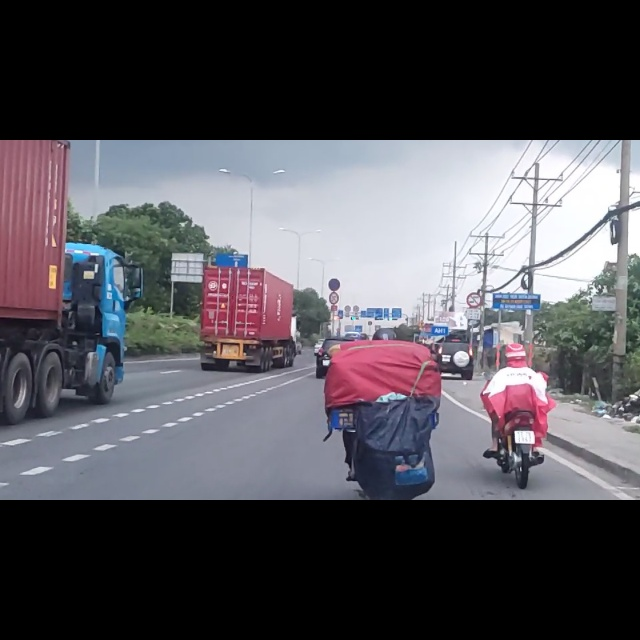bien_hieu_lenh: (467, 270, 482, 299), (327, 244, 341, 268), (329, 270, 339, 293)
